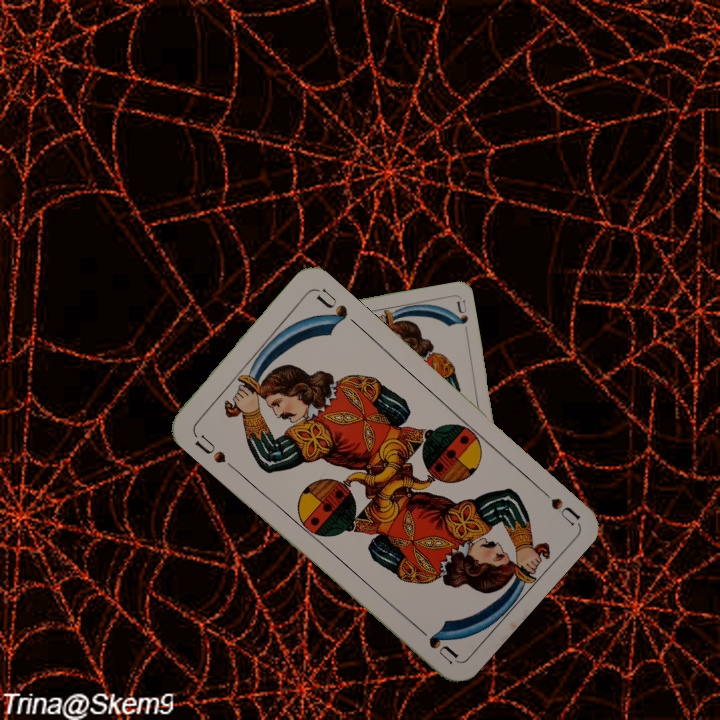SU: (530, 479, 581, 528), (189, 427, 229, 466)
